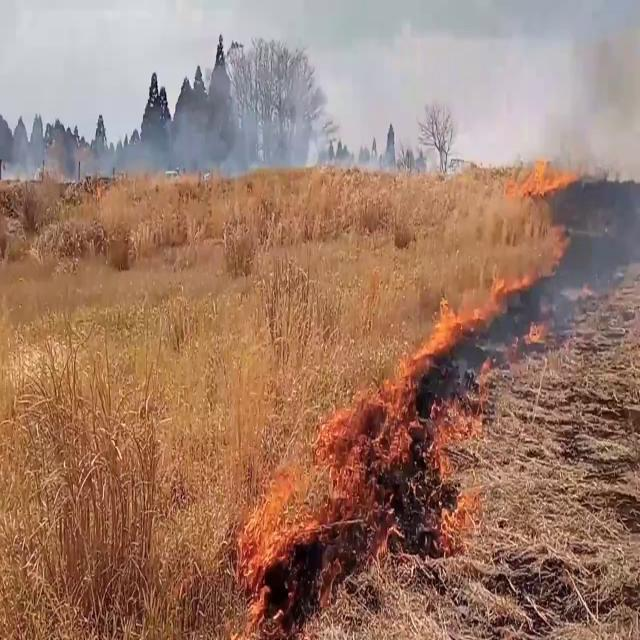Fire: (321, 277, 507, 547)
Smoke: (512, 1, 640, 333), (152, 66, 337, 186)
